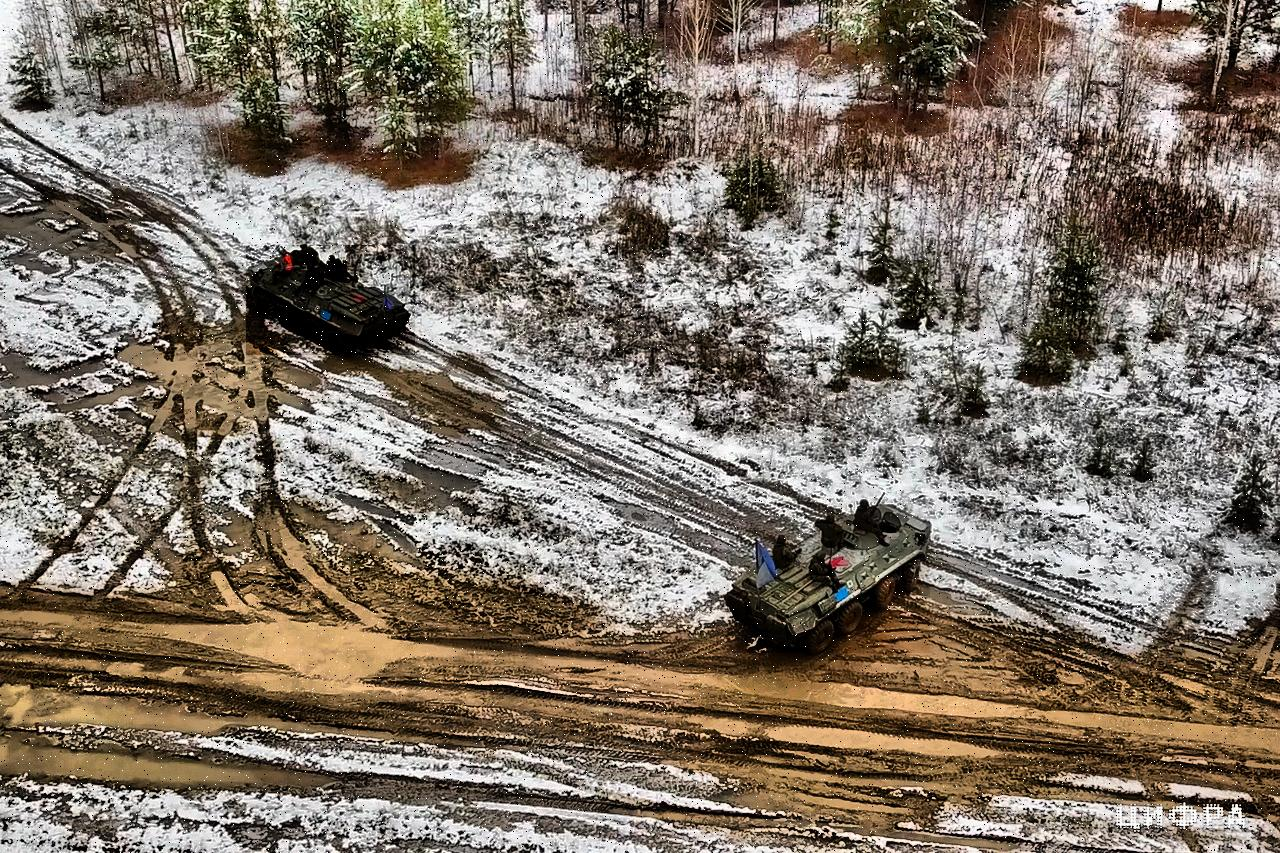military-vehicle: (727, 501, 930, 653), (247, 246, 416, 356)
